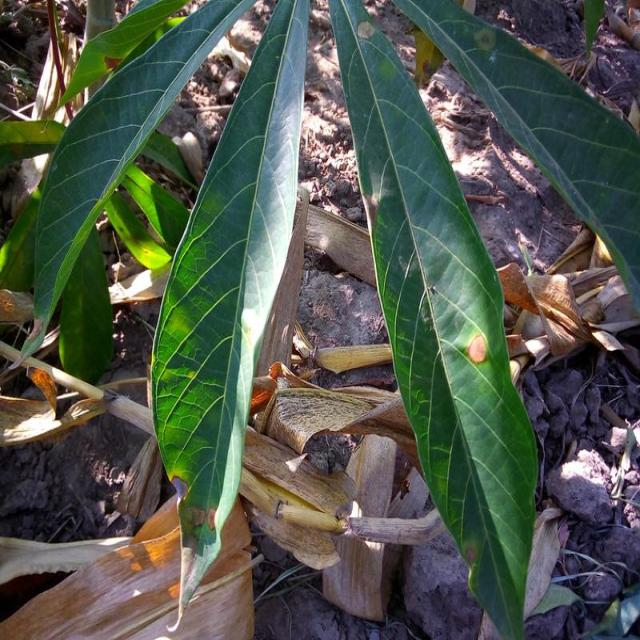cassava leaf: (326, 0, 539, 638), (147, 0, 310, 627), (17, 0, 256, 382), (391, 0, 639, 317)
